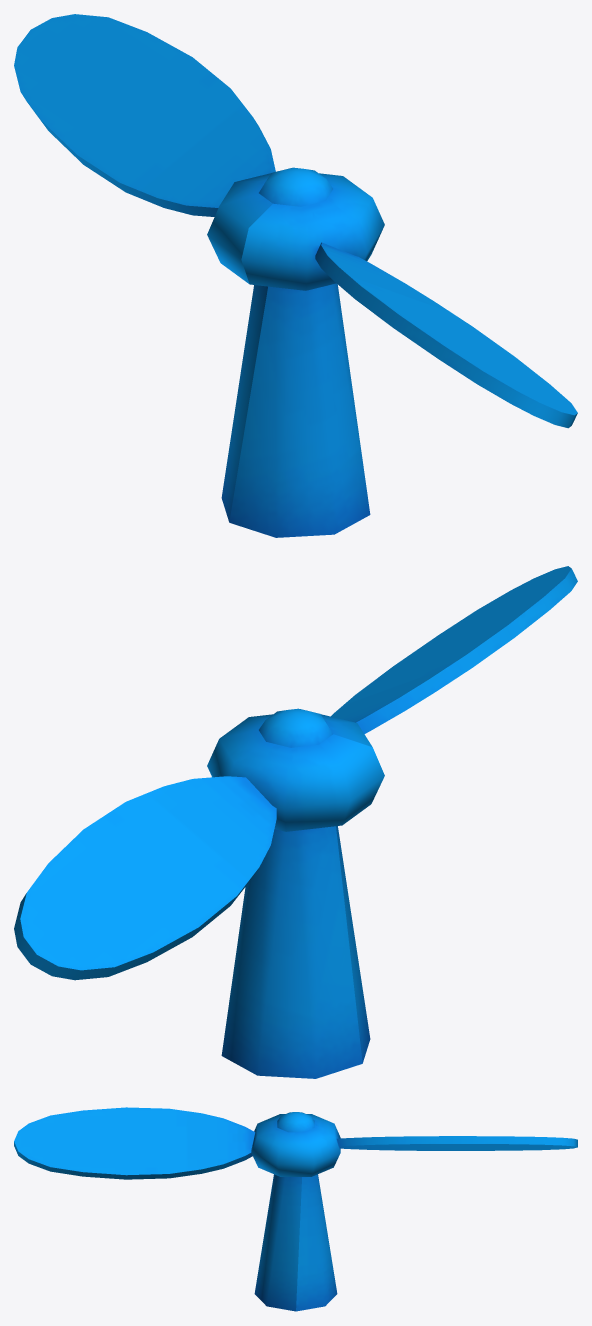
File: Helices.obj
3 renders of one model, top to bottom at view 1: azimuth 30°, elevation 25°; view 2: azimuth 150°, elevation 25°; view 3: azimuth 270°, elevation 25°, orthographic. The views are drawn at different scales.
Visible parts, largest first — view 1: Helices:polySurface1; view 2: Helices:polySurface1; view 3: Helices:polySurface1.
Boxes of the visible parts, x1,y1,x2,y2 form: Helices:polySurface1: [14, 14, 577, 537]; Helices:polySurface1: [14, 566, 577, 1078]; Helices:polySurface1: [14, 1107, 577, 1311].
Size of the model in its own units: 0.0442 by 0.0985 by 0.2797.
Materials: 1 (1 with a texture image).
